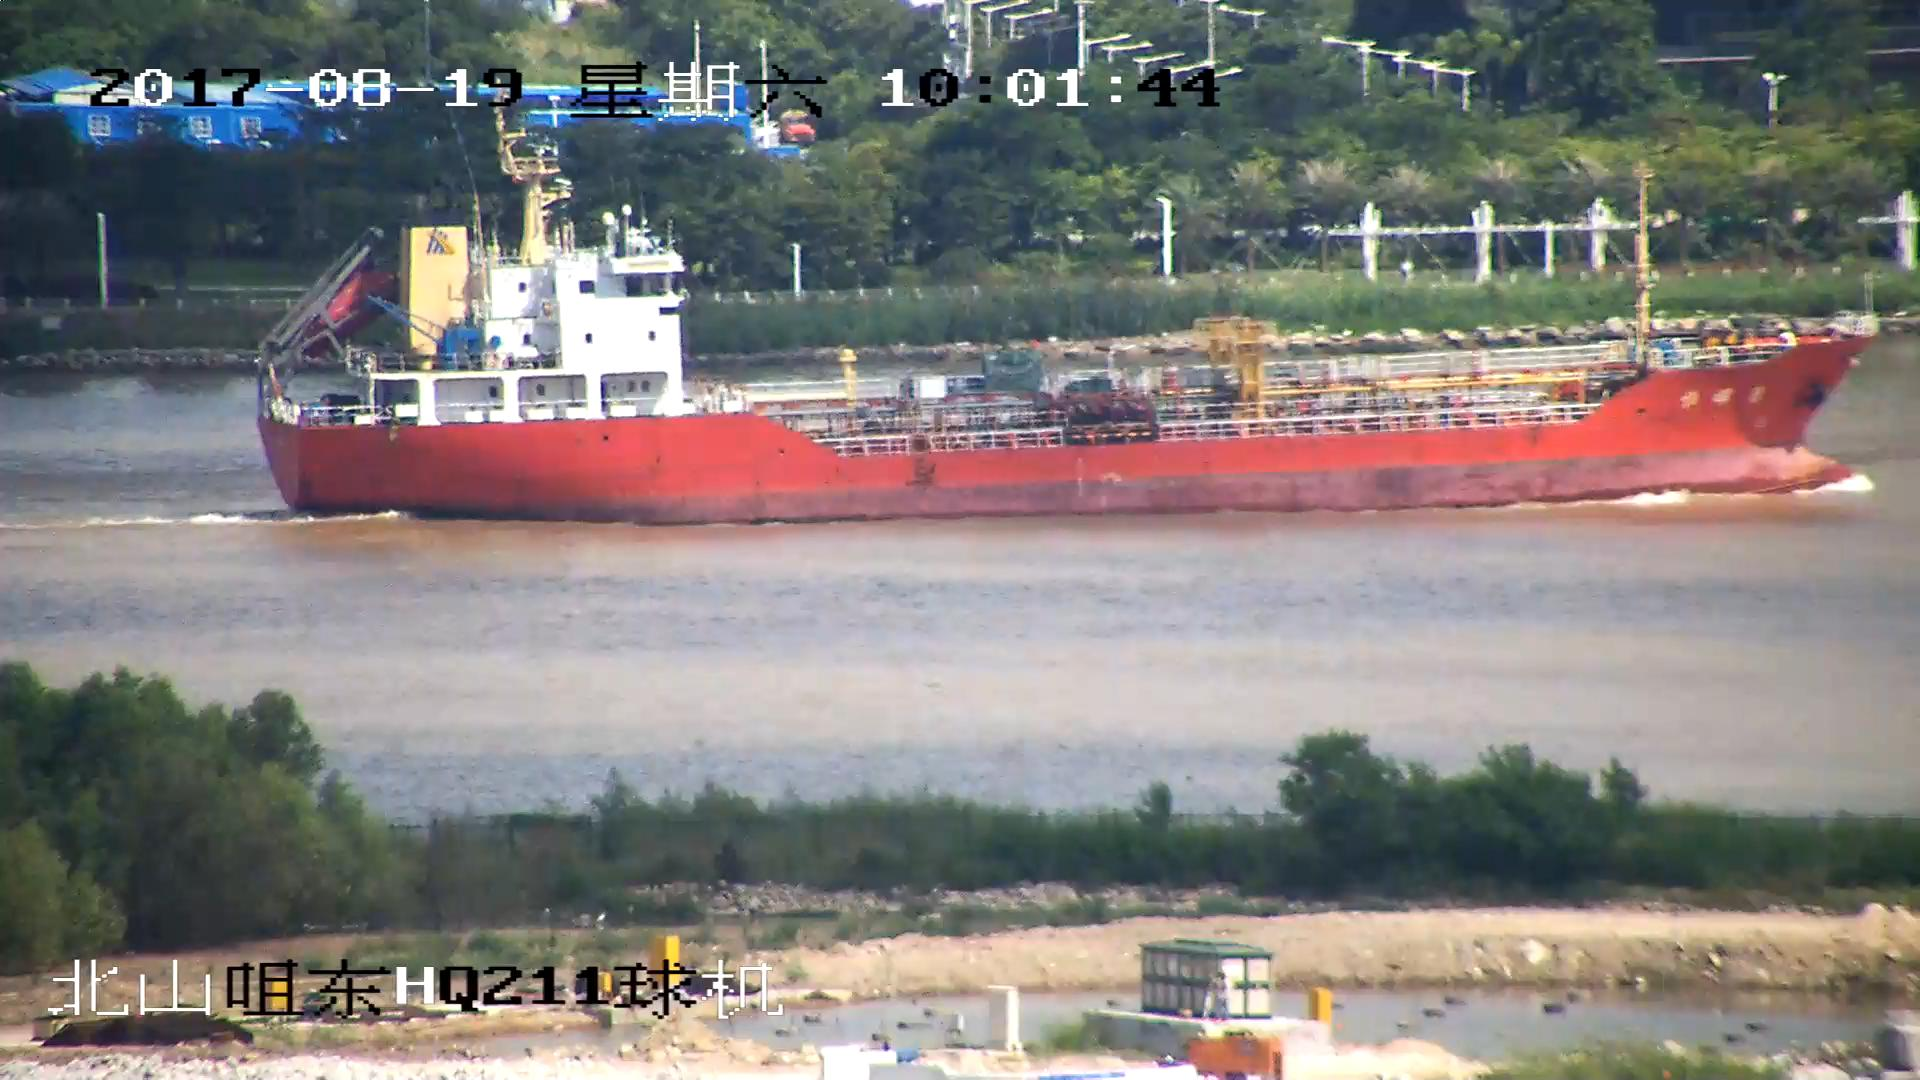general cargo ship: (253, 122, 1874, 530)
